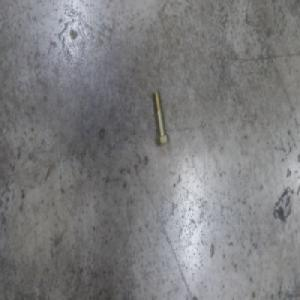Bolt: (152, 90, 169, 147)
